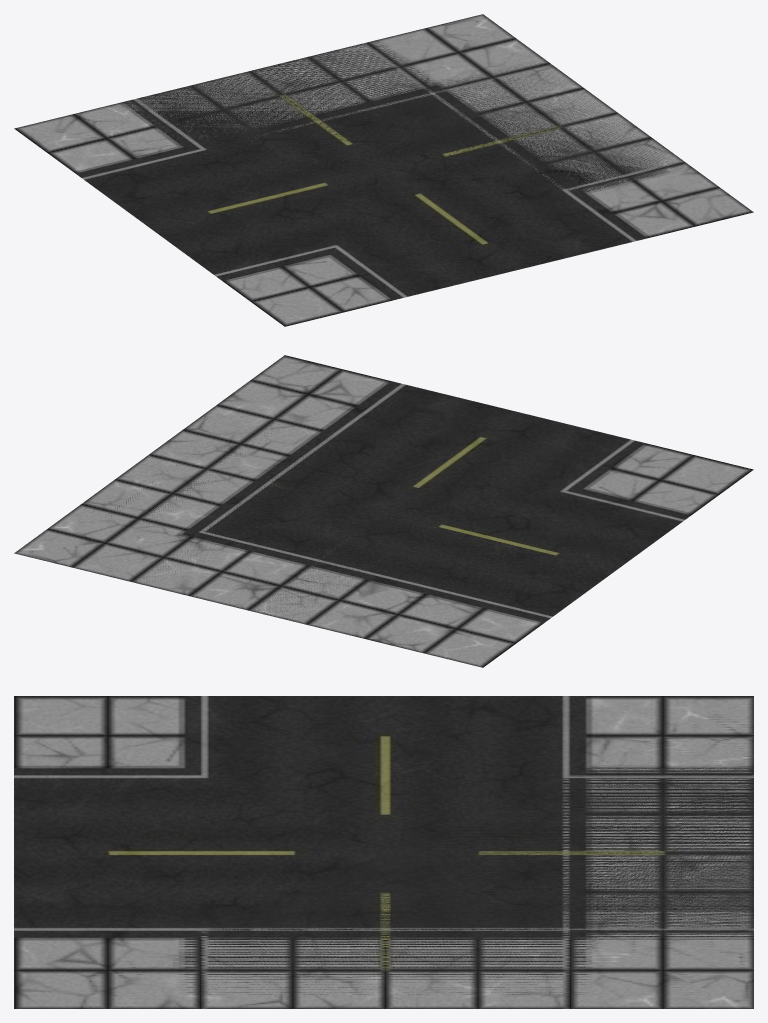
Rendered from Roads.dae.
3 renders of one model, top to bottom at view 1: azimuth 30°, elevation 25°; view 2: azimuth 150°, elevation 25°; view 3: azimuth 270°, elevation 25°, orthographic. The views are drawn at different scales.
Visible parts, largest first — view 1: RoadSW, RoadNEWS; view 2: RoadSW, RoadNEWS; view 3: RoadNEWS, RoadSW.
Part boxes in pixels (x1,y1,x2,y2): RoadSW: [58, 14, 753, 326]; RoadNEWS: [14, 22, 740, 274]; RoadSW: [14, 355, 735, 667]; RoadNEWS: [53, 362, 753, 641]; RoadNEWS: [14, 696, 753, 1005]; RoadSW: [14, 696, 753, 1008].
Size of the model in its own units: 2 by 2 by 0.
Materials: 8 (8 with a texture image).
